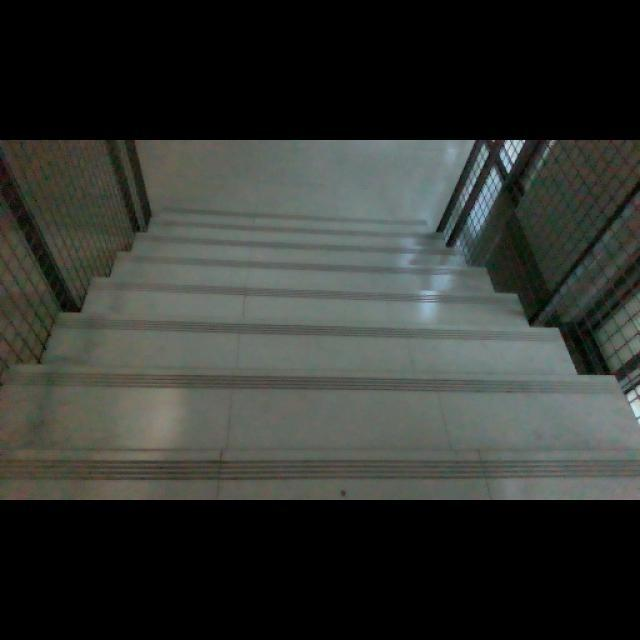stair: (0, 202, 631, 496)
